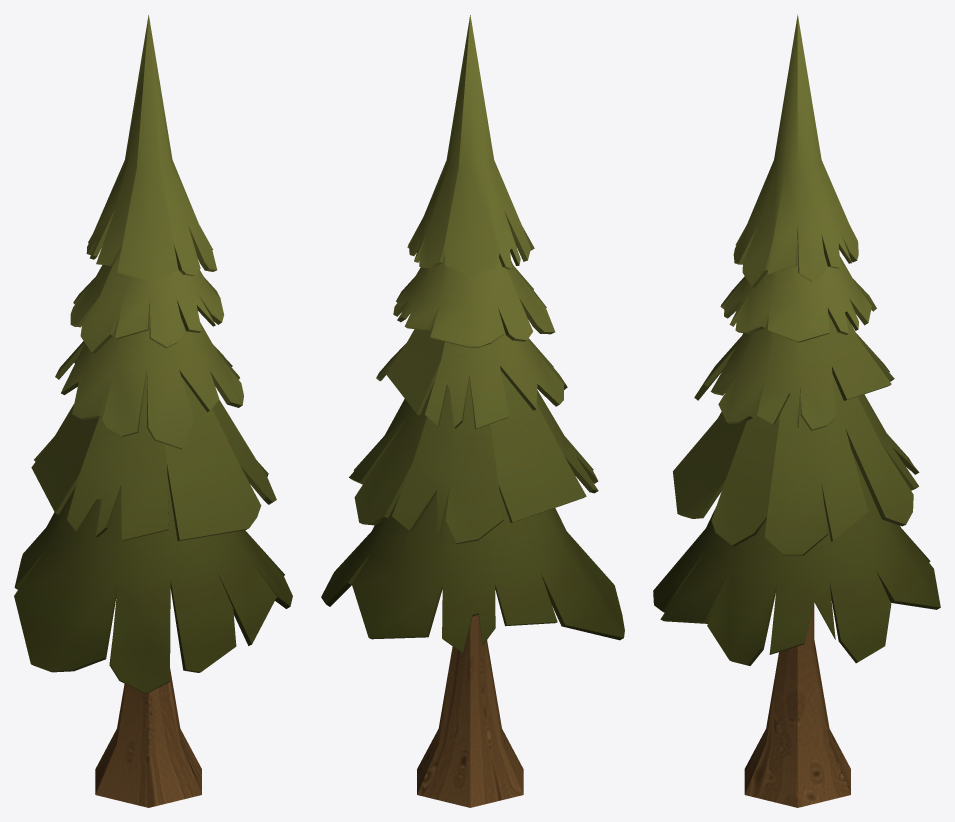
Rendered from Tree.glb.
The picture shows the model from 3 angles, left to right: view 1: azimuth 30°, elevation 25°; view 2: azimuth 150°, elevation 25°; view 3: azimuth 270°, elevation 25°; orthographic projection.
Parts seen in each view (by area): view 1: _gltfNode_0; view 2: _gltfNode_0; view 3: _gltfNode_0.
Boxes of the visible parts, <box> form: _gltfNode_0: <box>14,15,292,807</box>; _gltfNode_0: <box>321,15,624,807</box>; _gltfNode_0: <box>653,14,940,807</box>.
Bounding box in the file's own units: 2.34 × 6.64 × 2.25.
Materials: 1 (1 with a texture image).
